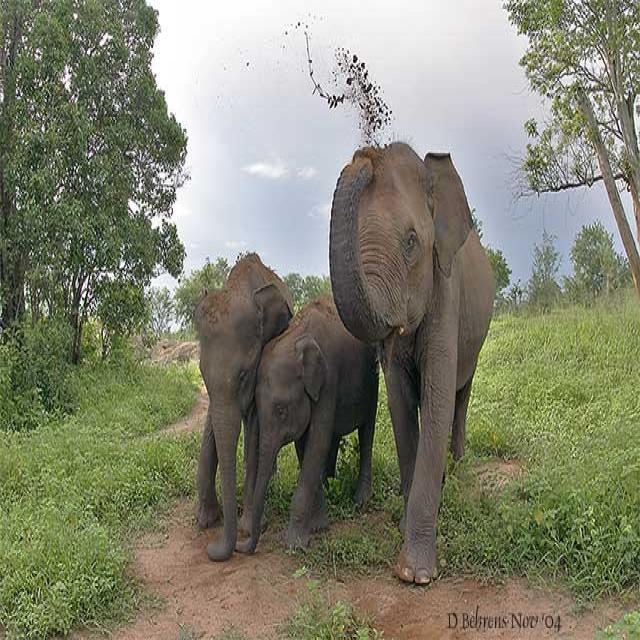Elephant: (324, 137, 509, 599), (247, 289, 355, 563), (178, 252, 270, 562)
